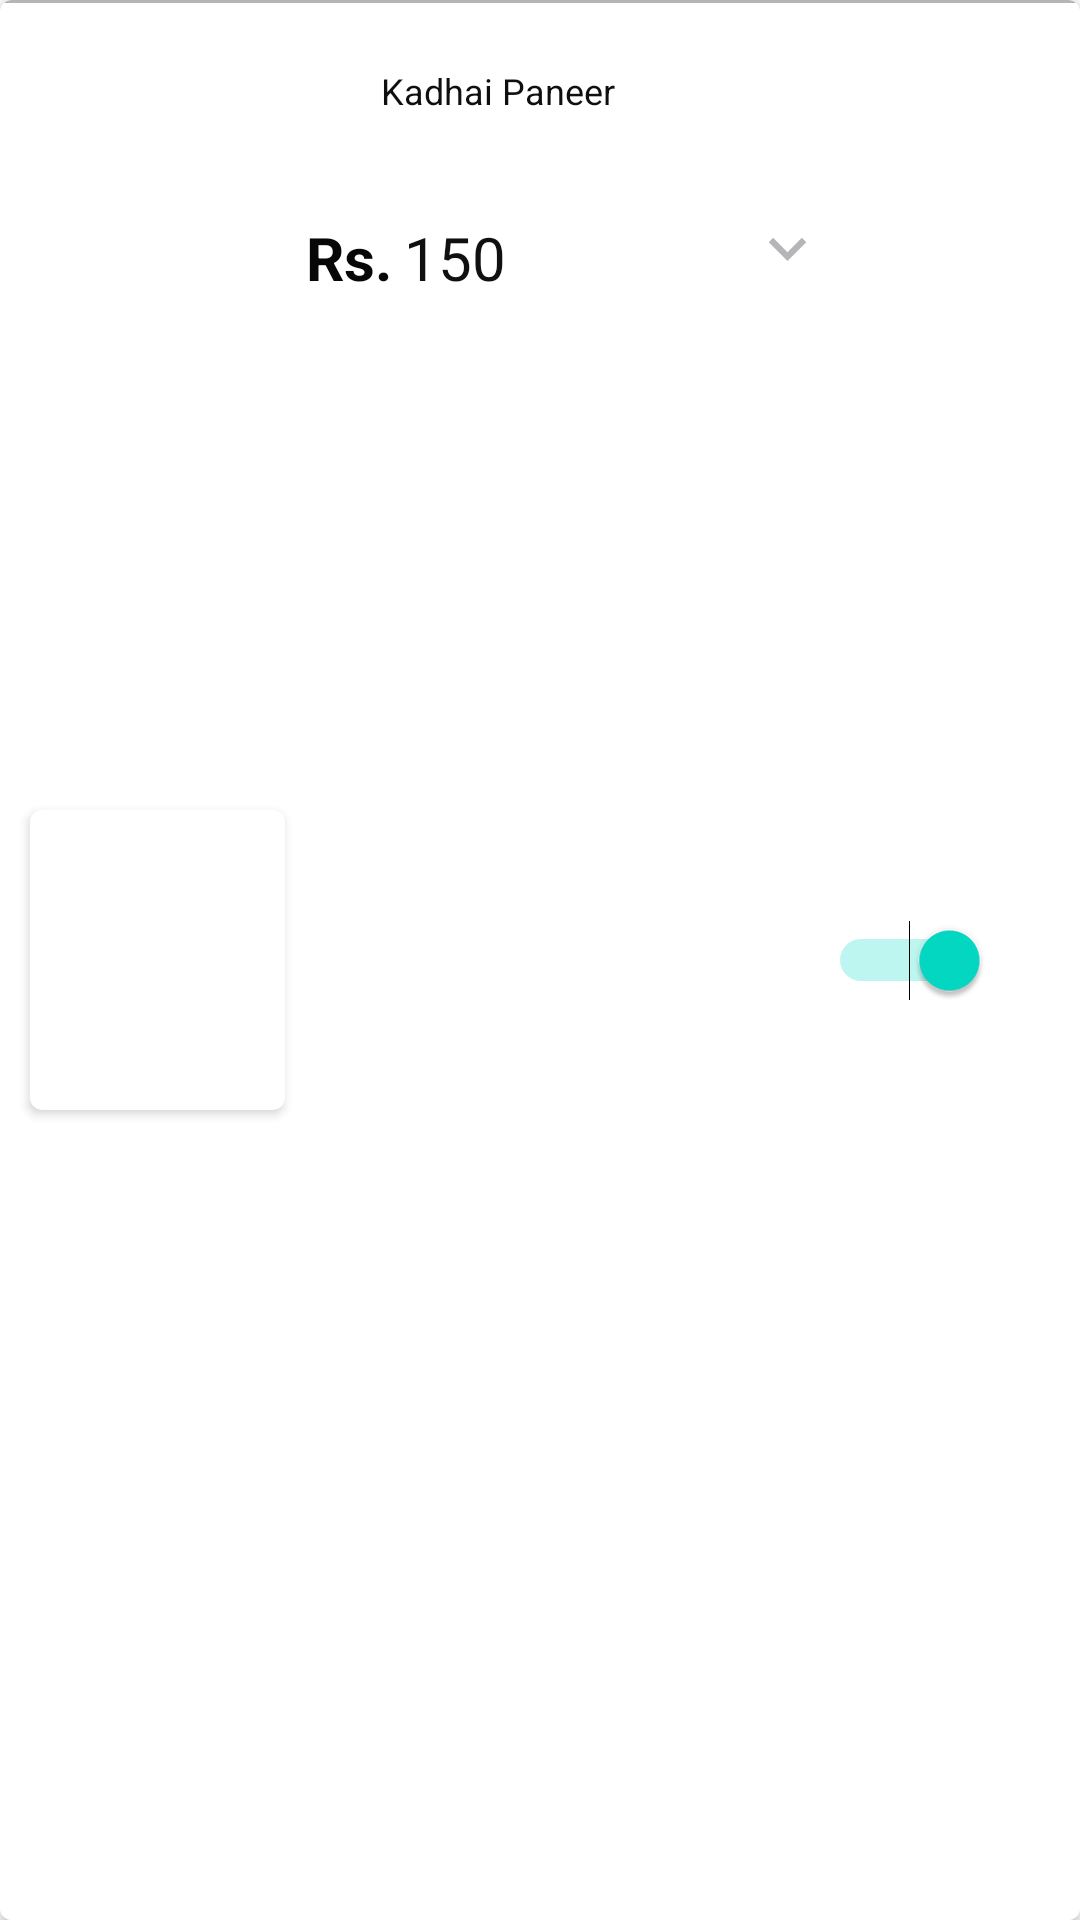

Named icons in this screenshot (1080w x 1920h) and their centers, (x=x, y=y):
arrowdown: (x=787, y=249)
